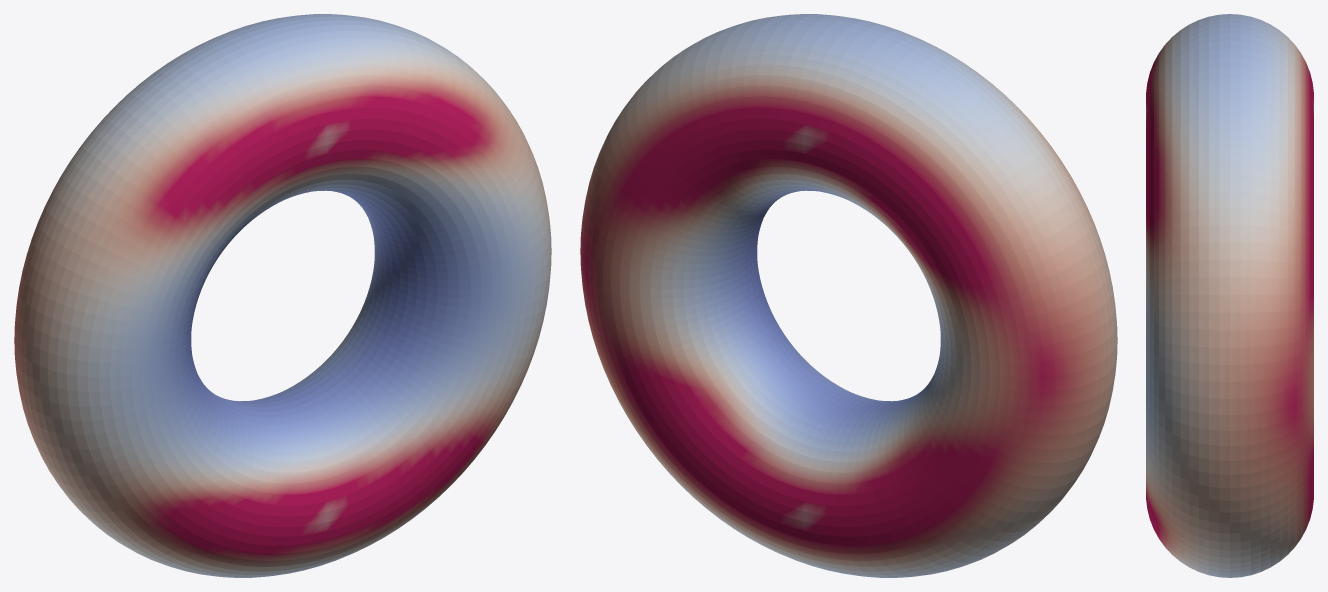
The picture shows the model from 3 angles, left to right: view 1: azimuth 30°, elevation 25°; view 2: azimuth 150°, elevation 25°; view 3: azimuth 270°, elevation 25°; orthographic projection. The views are drawn at different scales.
Parts seen in each view (by area): view 1: world; view 2: world; view 3: world.
Part boxes in pixels (x1,y1,x2,y2): world: (14,14,551,577); world: (580,14,1117,577); world: (1146,14,1313,577).
Bounding box in the file's own units: 22.8 × 22.8 × 6.79.
